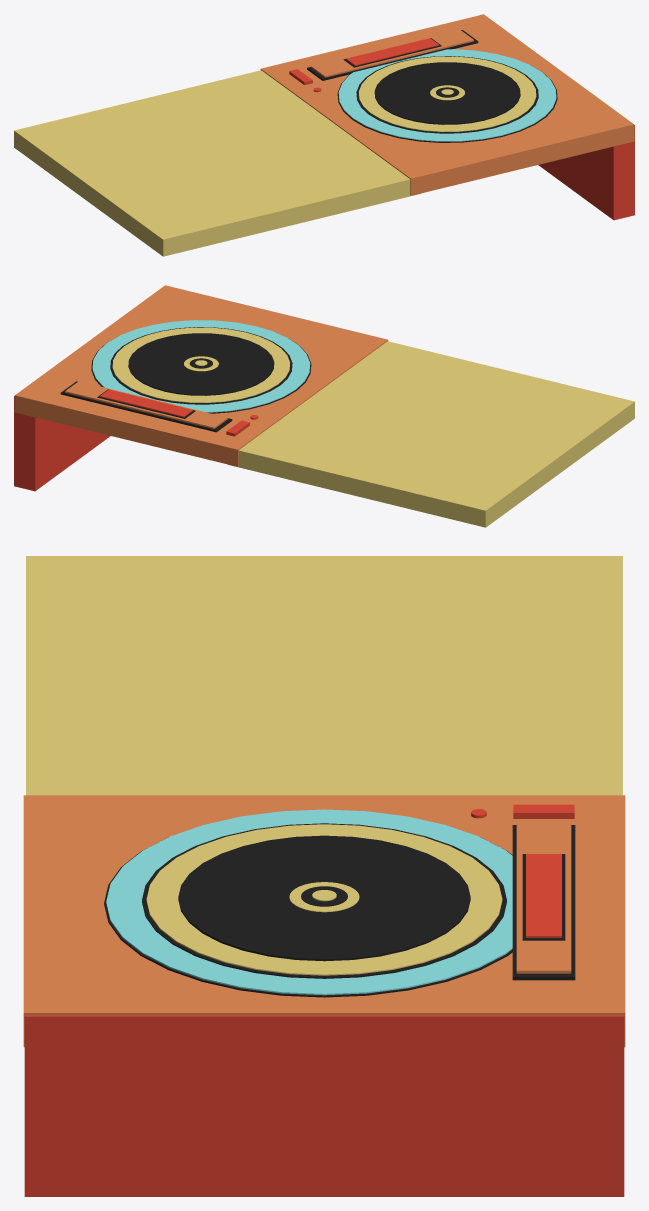
File: ZhuanPan.fbx
3 renders of one model, top to bottom at view 1: azimuth 30°, elevation 25°; view 2: azimuth 150°, elevation 25°; view 3: azimuth 270°, elevation 25°, orthographic. The views are drawn at different scales.
Visible parts, largest first — view 1: Cube.012, Cube.006, Cylinder.010, Cylinder.009, Cube.013, Cylinder.008, Cube.007, Cube.009, Cylinder.014, Cylinder.015, Cube.008; view 2: Cube.012, Cube.006, Cylinder.010, Cube.013, Cylinder.009, Cylinder.008, Cube.007, Cube.009, Cylinder.014, Cube.008; view 3: Cube.012, Cube.013, Cube.006, Cylinder.010, Cylinder.009, Cylinder.008, Cube.007, Cube.009, Cylinder.014, Cube.008, Cylinder.015, Cylinder.011 (+1 smaller).
Part boxes in pixels (box(x1,y1,x2,y2)): Cube.012: box(14, 70, 421, 256); Cube.006: box(260, 14, 634, 195); Cylinder.010: box(374, 62, 520, 124); Cylinder.009: box(338, 49, 556, 141); Cube.013: box(538, 125, 634, 220); Cylinder.008: box(359, 56, 536, 131); Cube.007: box(311, 30, 473, 77); Cube.009: box(346, 38, 439, 65); Cylinder.014: box(356, 56, 538, 133); Cylinder.015: box(337, 66, 557, 142); Cube.008: box(307, 30, 478, 80); Cube.012: box(227, 341, 634, 527); Cube.006: box(14, 285, 388, 466); Cylinder.010: box(128, 333, 274, 395); Cube.013: box(14, 396, 110, 491); Cylinder.009: box(92, 320, 310, 412); Cylinder.008: box(112, 327, 289, 402); Cube.007: box(65, 381, 227, 428); Cube.009: box(100, 389, 192, 417); Cylinder.014: box(110, 327, 292, 404); Cube.008: box(60, 381, 232, 432); Cube.012: box(26, 556, 622, 795); Cube.013: box(24, 1015, 624, 1196); Cube.006: box(23, 795, 625, 1047); Cylinder.010: box(178, 835, 470, 961); Cylinder.009: box(106, 809, 512, 995); Cylinder.008: box(146, 824, 502, 975); Cube.007: box(516, 825, 571, 973); Cube.009: box(526, 854, 561, 937); Cylinder.014: box(142, 823, 506, 978); Cube.008: box(512, 825, 575, 980); Cylinder.015: box(104, 837, 512, 997); Cylinder.011: box(289, 882, 359, 912).
Bounding box in the file's own units: 3408 × 663 × 1883.
